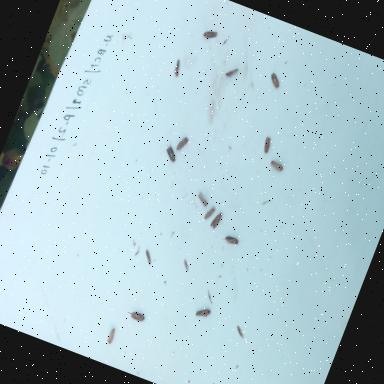pbw: (191, 302, 213, 324), (124, 306, 148, 326), (102, 324, 120, 349), (266, 156, 286, 176), (219, 232, 241, 250), (201, 202, 218, 225), (208, 208, 224, 232), (266, 71, 284, 91), (198, 26, 218, 44), (174, 134, 190, 155), (170, 58, 185, 80), (194, 190, 212, 208), (260, 134, 274, 157), (224, 64, 240, 81)
